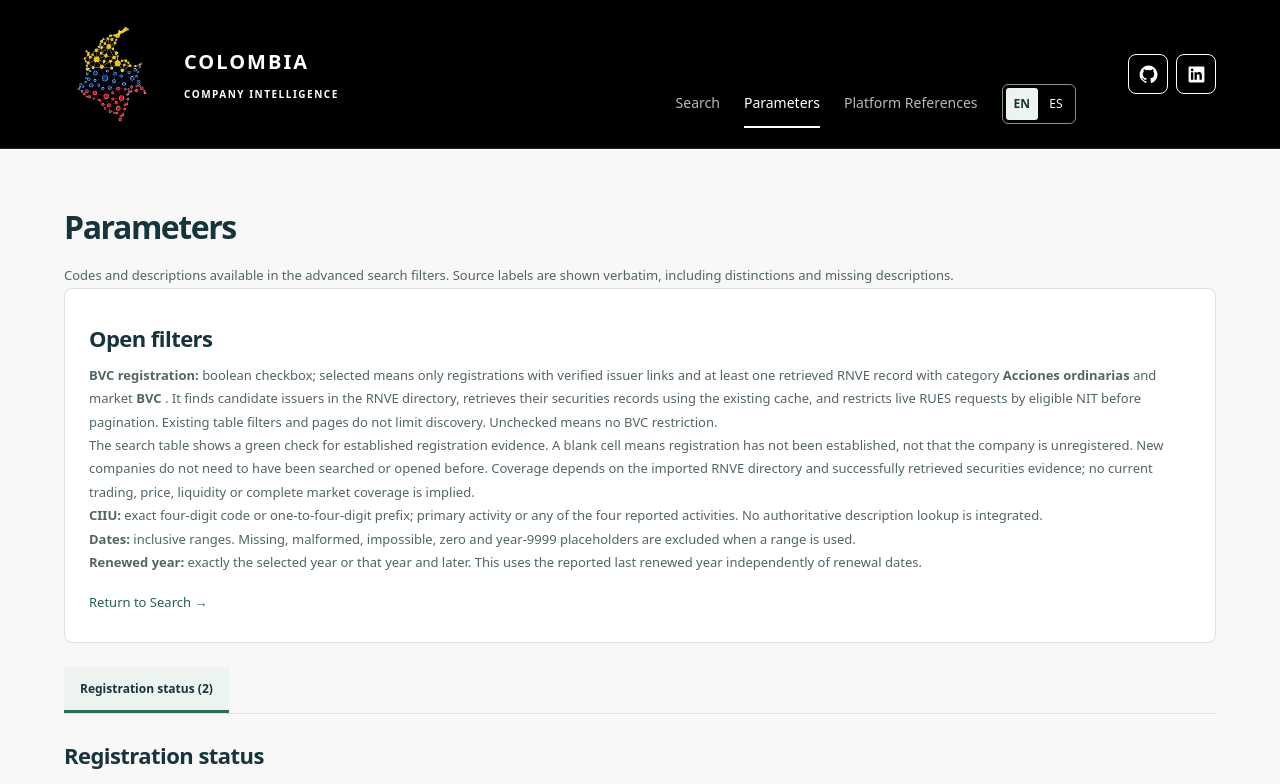
Test: switches every page from EN to ES and back: /parameters
Check: the heading "Parameters" is shown, box [64, 205, 236, 248]
Step 1. Click the button with aria-label "Spanish" → x=1056, y=104, box [1040, 88, 1072, 120]
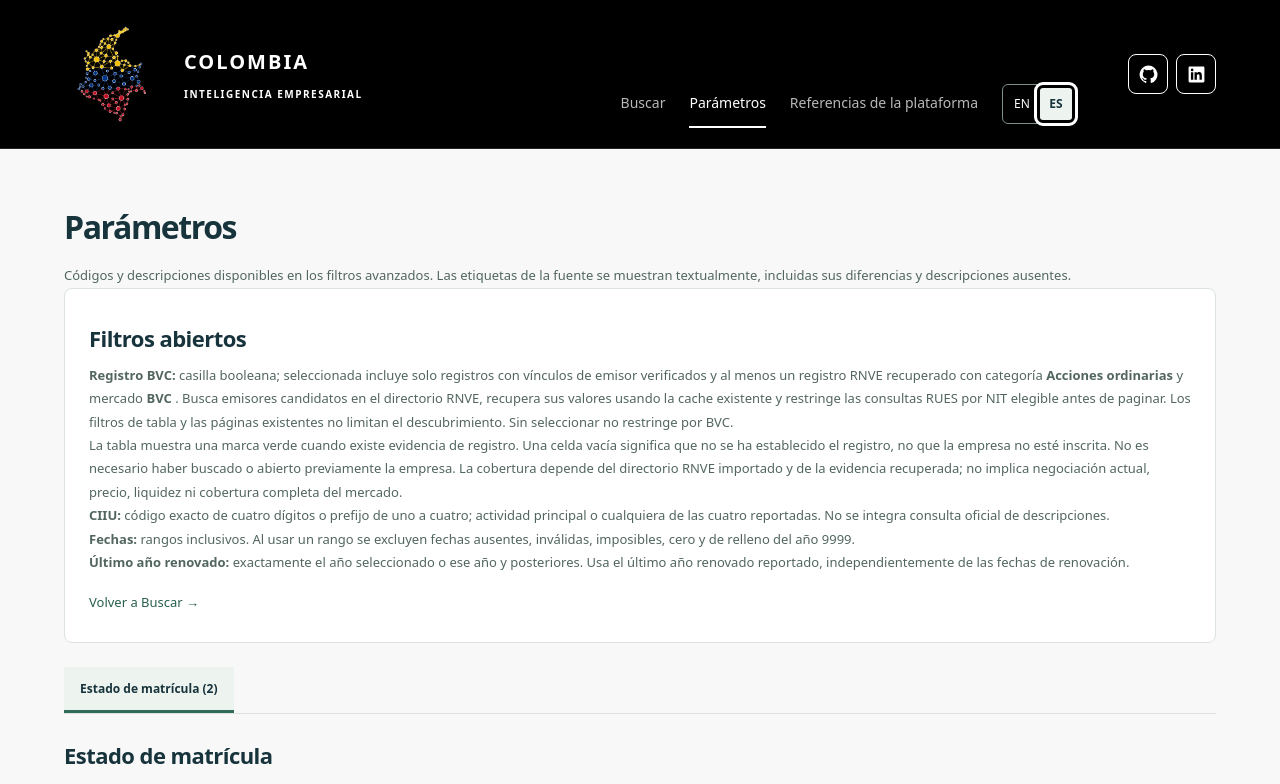
Check: the heading "Parámetros" is shown, box [64, 205, 236, 248]
Step 2. Click the button with aria-label "Inglés" → x=1022, y=104, box [1006, 88, 1038, 120]
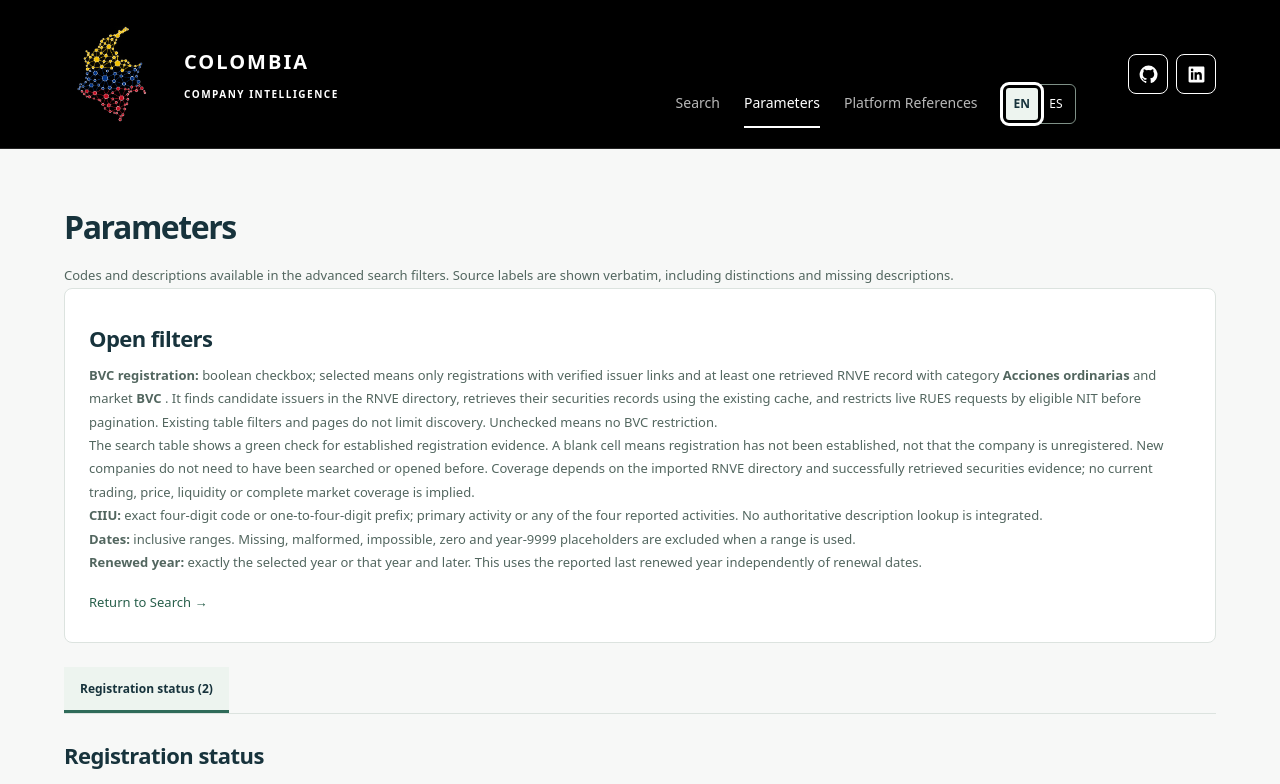
Check: the heading "Parameters" is shown, box [64, 205, 236, 248]
